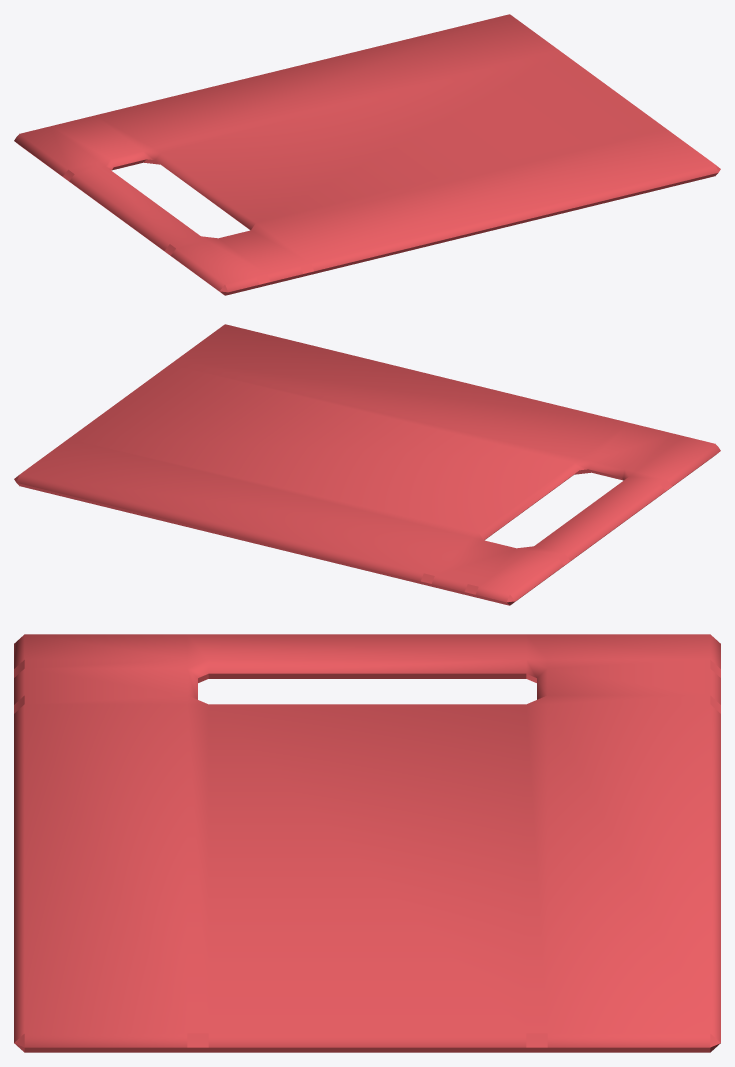
The model's file is chopping-board.glb.
The picture shows the model from 3 angles, top to bottom: view 1: azimuth 30°, elevation 25°; view 2: azimuth 150°, elevation 25°; view 3: azimuth 270°, elevation 25°; orthographic projection. The views are drawn at different scales.
Parts seen in each view (by area): view 1: Plane.005; view 2: Plane.005; view 3: Plane.005.
Boxes of the visible parts, <box> form: Plane.005: <box>14,14,720,295</box>; Plane.005: <box>14,324,720,605</box>; Plane.005: <box>14,634,720,1052</box>.
Bounding box in the file's own units: 0.6362 × 0.014 × 0.4657.
